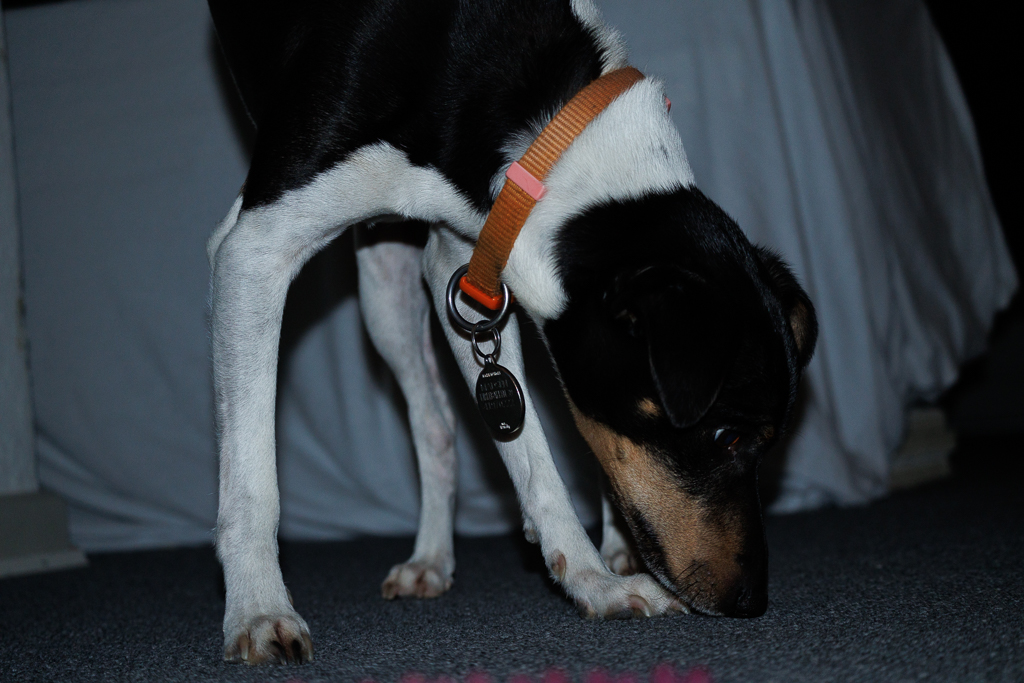Dog: (187, 0, 824, 676)
